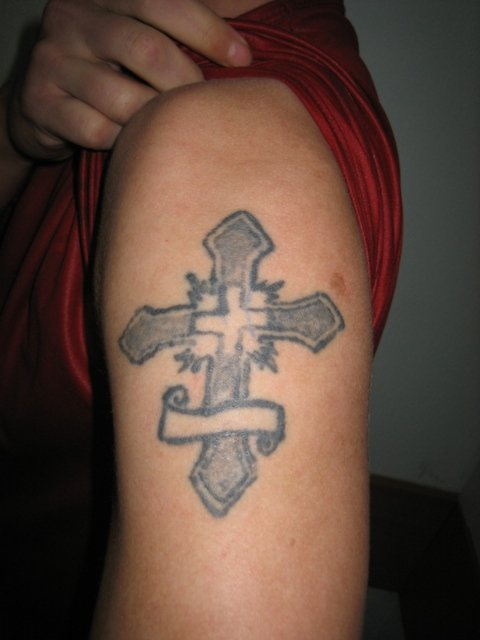tatu9_krest: (123, 206, 348, 525)
